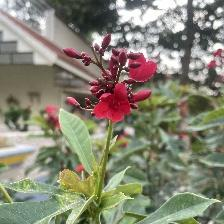jatropha: (94, 80, 138, 128)
